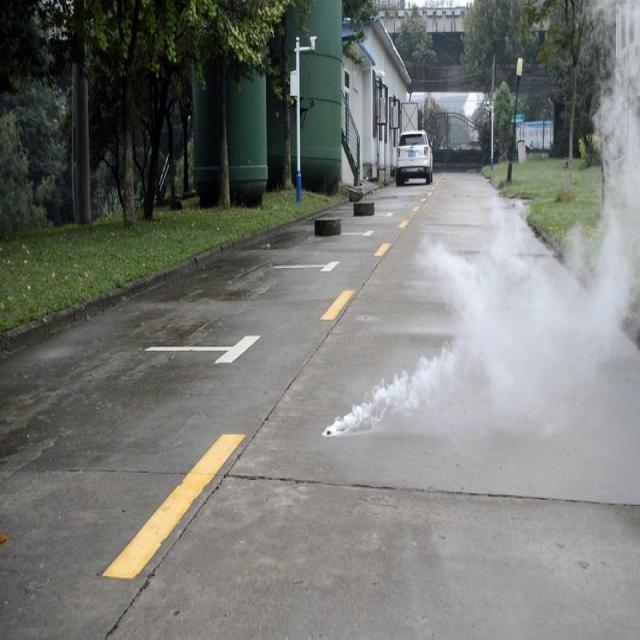Smoke: (322, 1, 640, 439)
